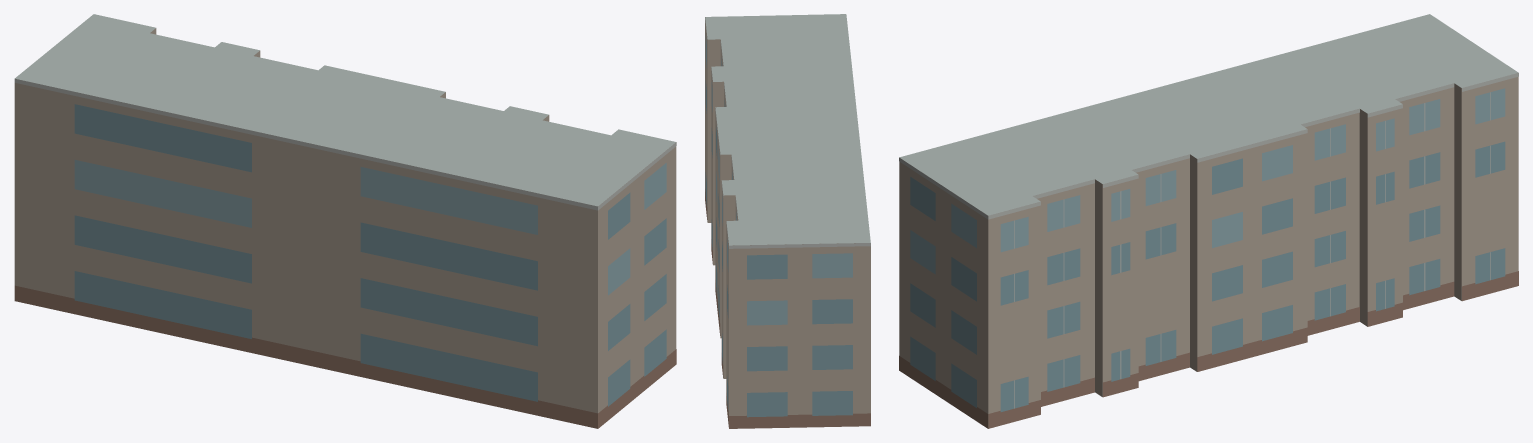
Rendered from survey-upis-32871740.glb.
The picture shows the model from 3 angles, left to right: view 1: azimuth 30°, elevation 25°; view 2: azimuth 150°, elevation 25°; view 3: azimuth 270°, elevation 25°; orthographic projection. The views are drawn at different scales.
Parts seen in each view (by area): view 1: survey-upis-32871740.tmp; view 2: survey-upis-32871740.tmp; view 3: survey-upis-32871740.tmp.
Part boxes in pixels (left/top/right/bottom): survey-upis-32871740.tmp: left=14, top=14, right=676, bottom=428; survey-upis-32871740.tmp: left=705, top=14, right=870, bottom=428; survey-upis-32871740.tmp: left=899, top=14, right=1518, bottom=428.
Bounding box in the file's own units: 27.01 × 13.3 × 35.05.
